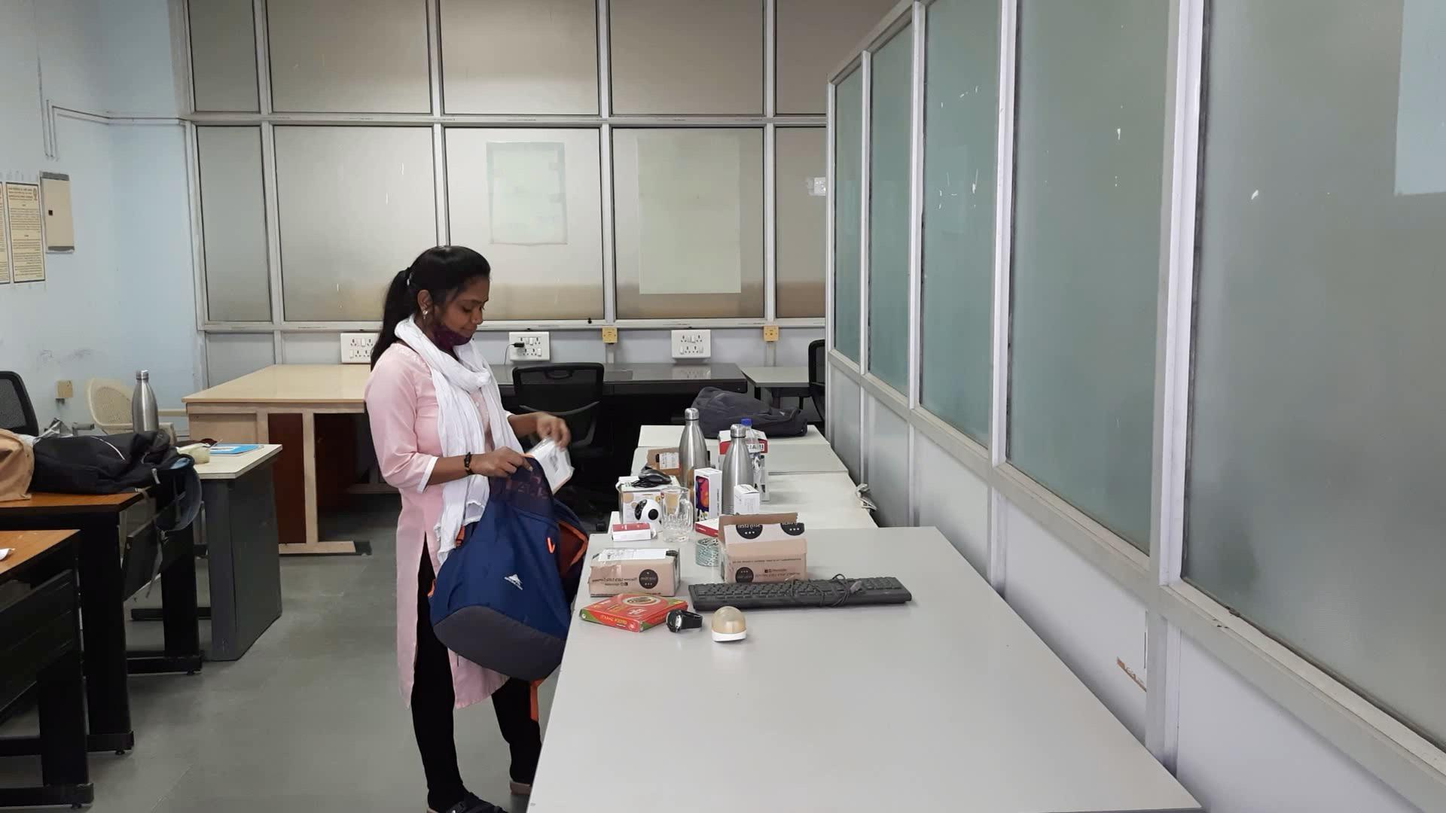shoplifting: (343, 385, 728, 690)
